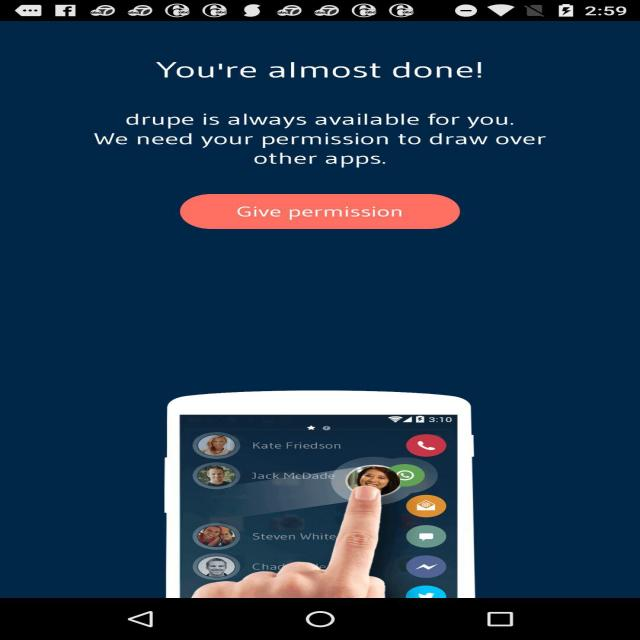button: (153, 185, 504, 242)
